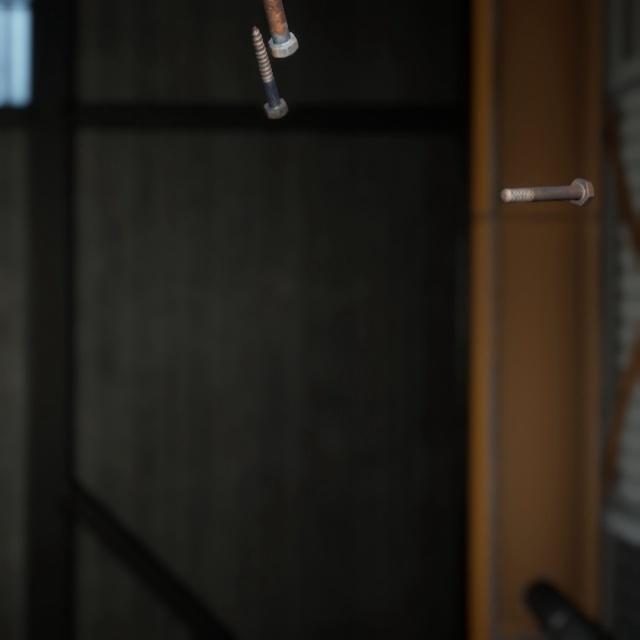bolt: (247, 10, 292, 112), (495, 159, 598, 196), (485, 612, 589, 640), (259, 0, 303, 55)
